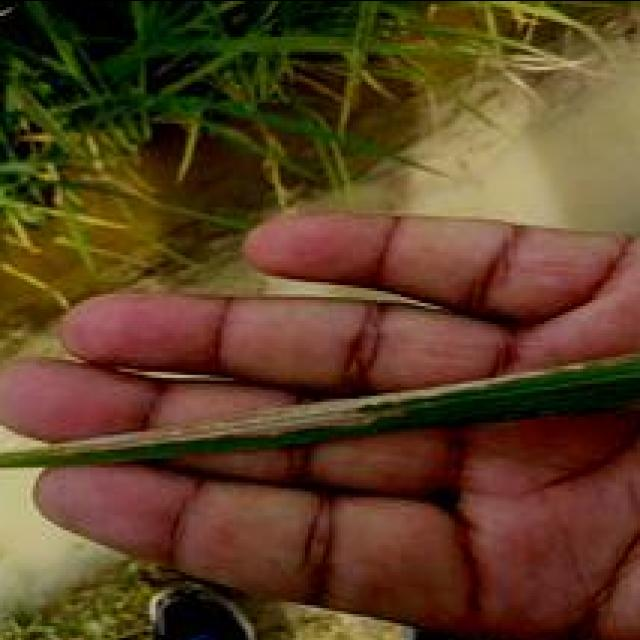Bacterial_Leaf_Blight: (54, 368, 572, 431)
